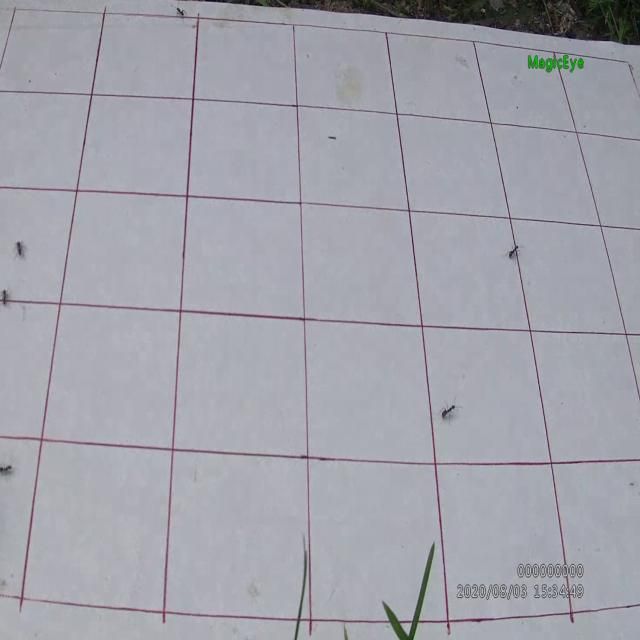Ant: (437, 393, 462, 425), (501, 237, 525, 264), (170, 1, 187, 24), (13, 241, 27, 262), (0, 286, 12, 308), (0, 462, 13, 475)
